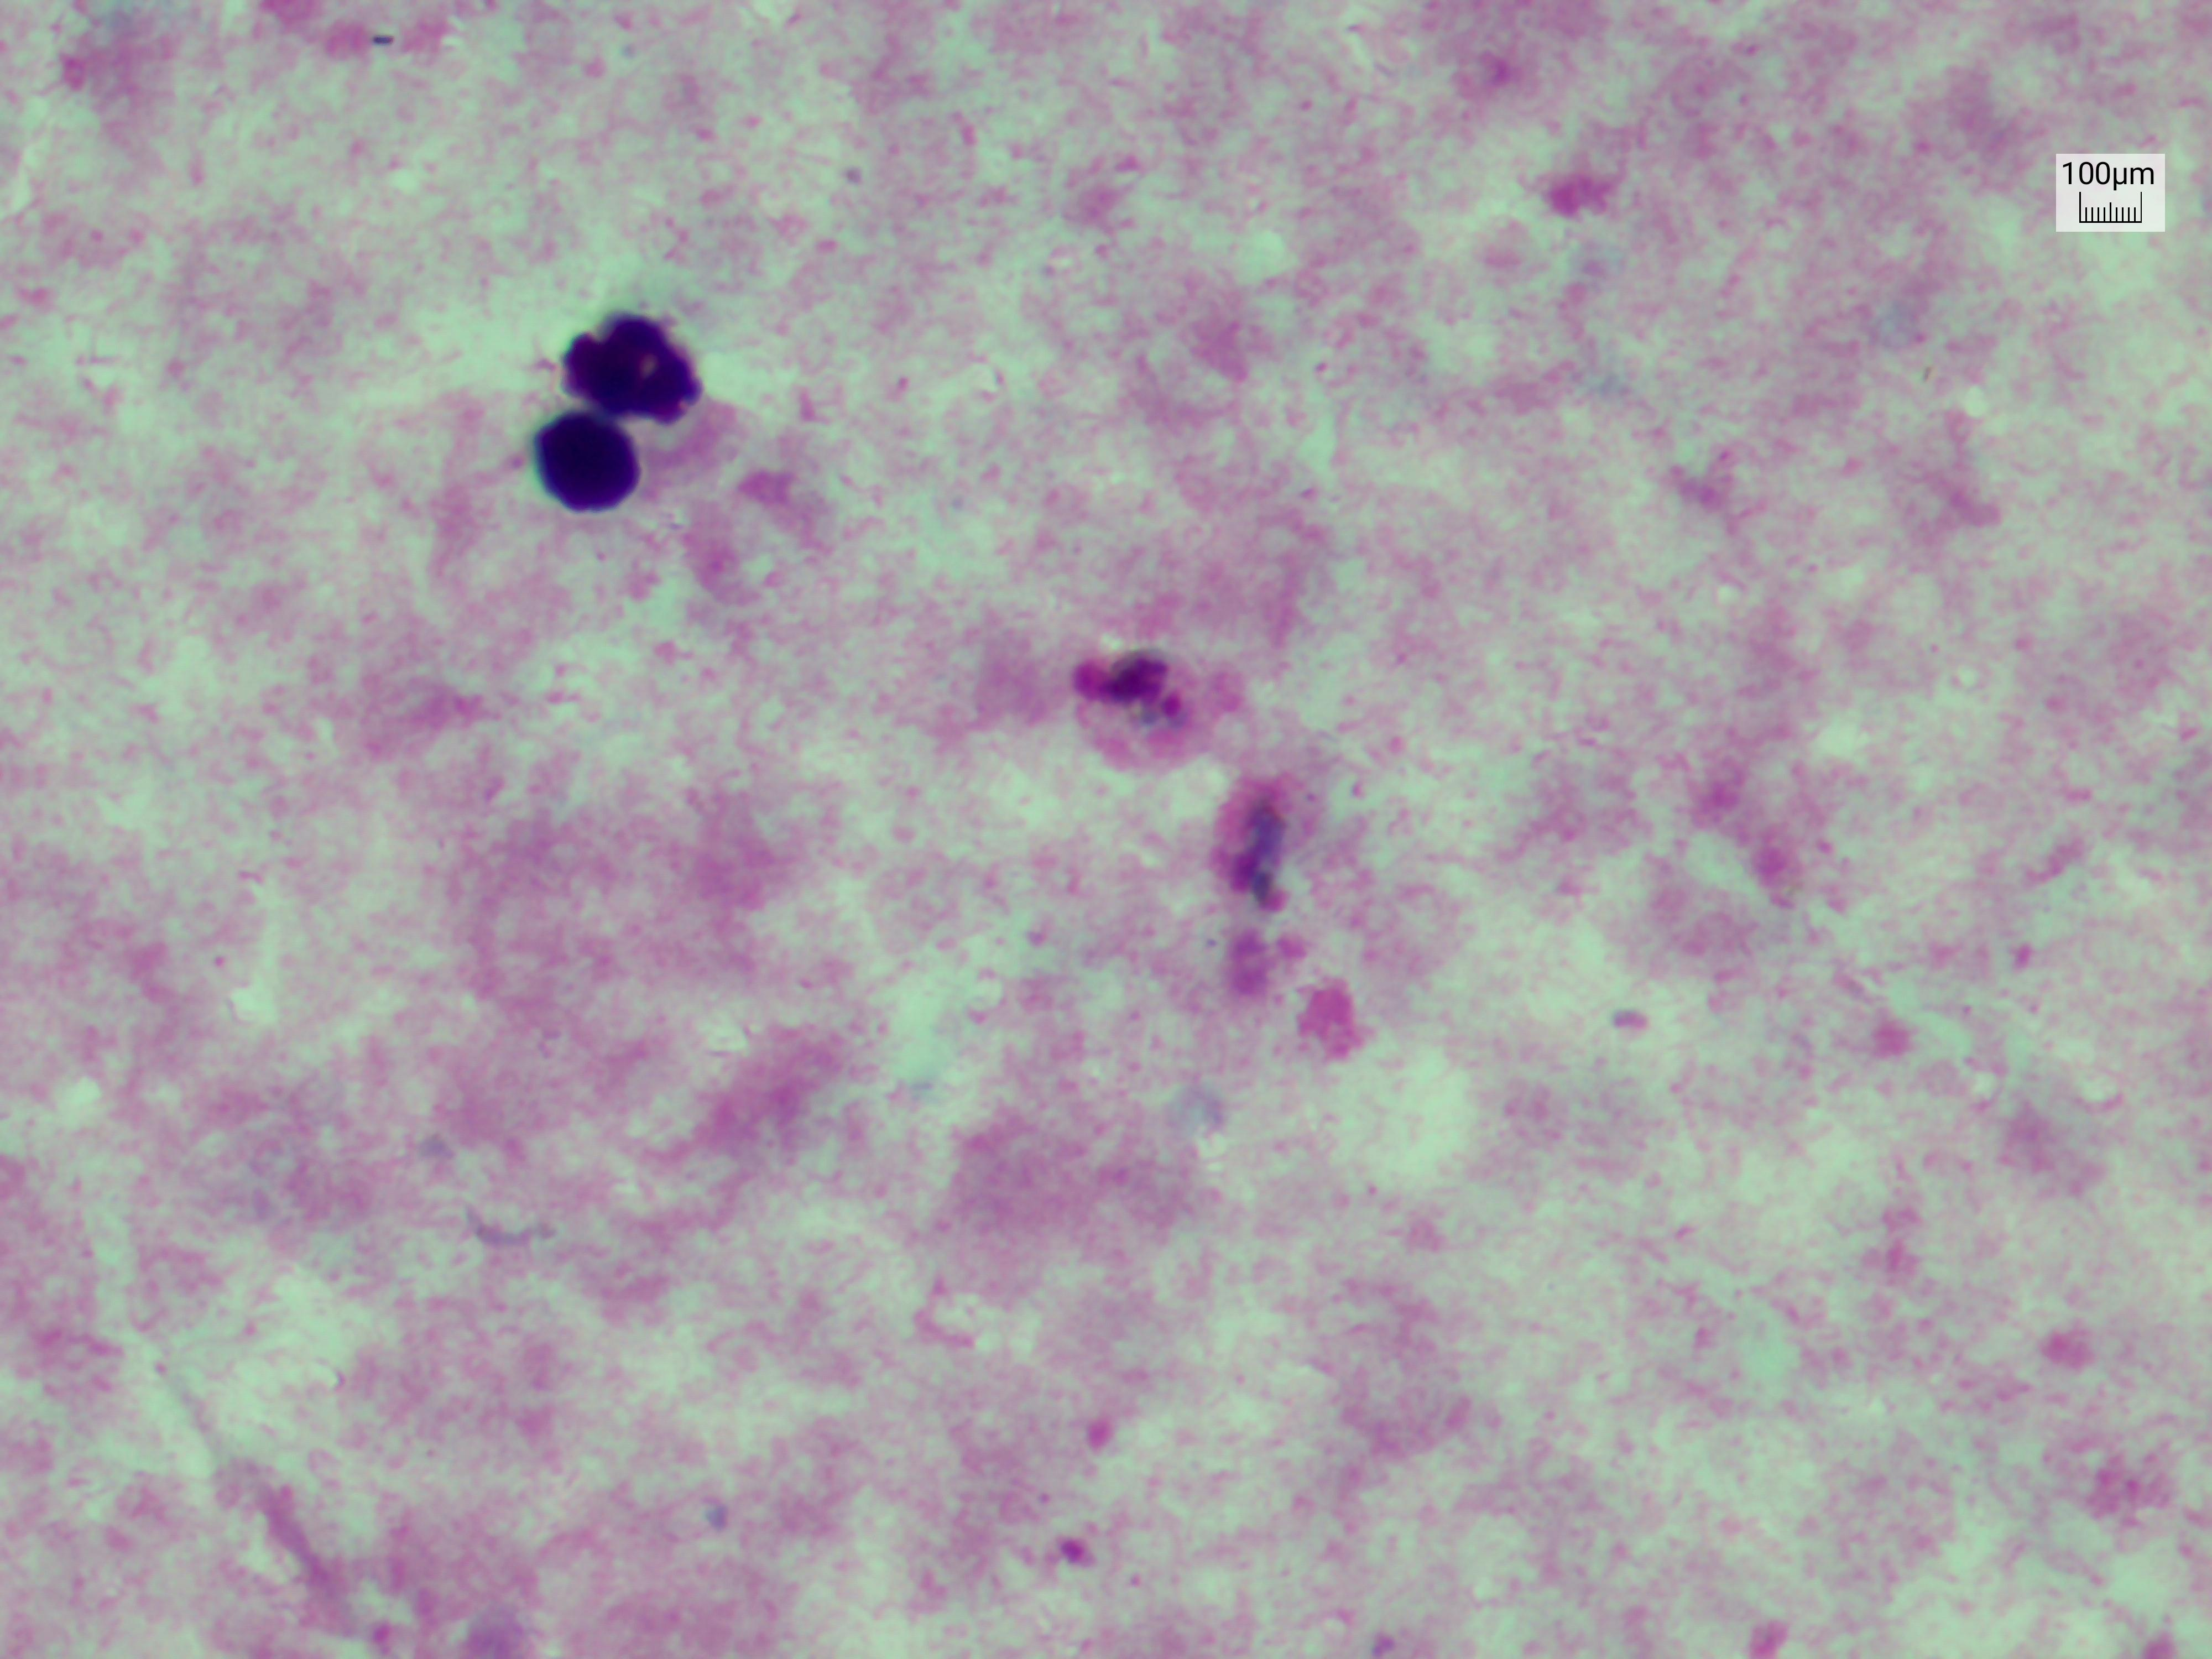p.vivax: (1055, 622, 1261, 763), (1200, 769, 1312, 945)
